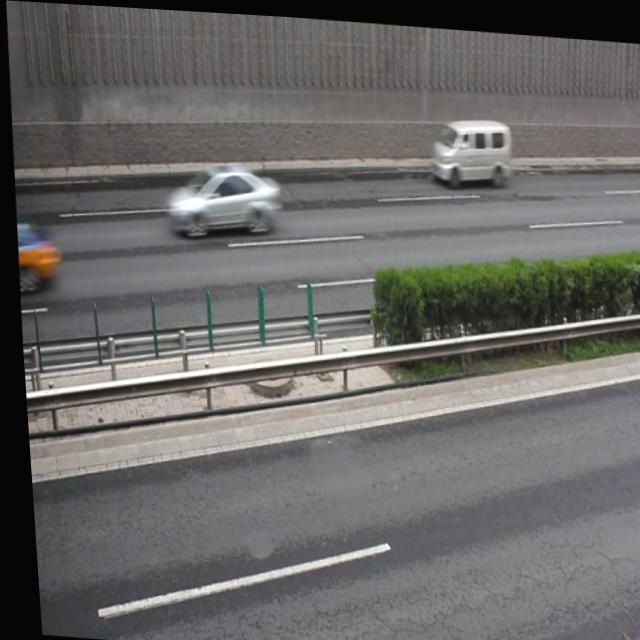car: (161, 155, 279, 241)
truck: (425, 110, 511, 184)
